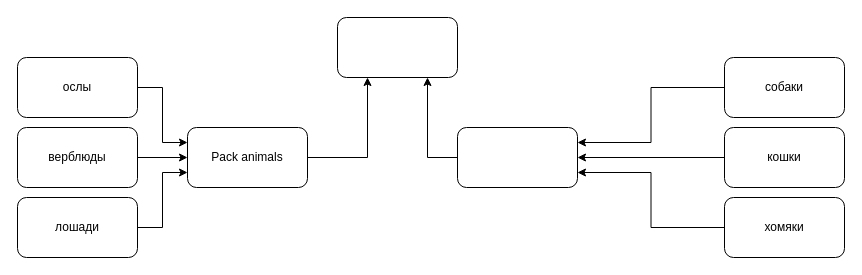
The diagram is 862 pixels wide and 275 high, and some of its shapes have lost their labels. The centre of each missing label's shape, as x and y in pixels:
"Pets" goes at point 517,157.
"Животные" goes at point 397,47.
